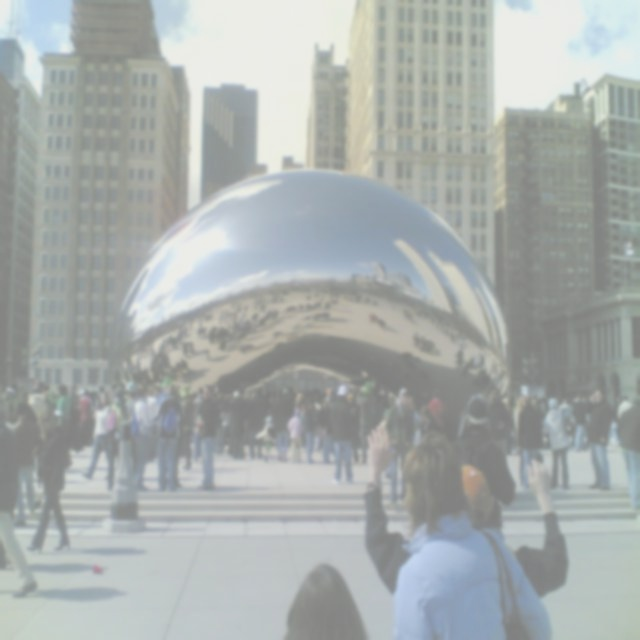pessoa: (112, 288, 512, 430), (361, 422, 574, 640), (382, 424, 566, 640), (450, 394, 518, 542), (0, 395, 40, 603), (282, 560, 372, 640), (26, 407, 72, 555), (0, 379, 57, 487), (383, 386, 416, 511), (12, 400, 42, 528), (152, 381, 184, 493), (582, 384, 614, 492), (614, 394, 640, 512), (132, 384, 160, 492), (106, 385, 132, 493), (516, 393, 544, 492), (195, 381, 219, 492), (330, 384, 356, 486), (82, 392, 111, 480), (26, 386, 52, 482), (77, 382, 114, 448), (354, 378, 378, 466), (552, 392, 576, 478), (244, 383, 266, 461), (272, 388, 294, 463), (229, 382, 249, 462), (178, 384, 196, 472), (54, 384, 72, 469), (488, 388, 510, 456), (568, 392, 591, 452), (172, 383, 185, 488), (343, 392, 361, 467), (513, 393, 527, 487), (2, 380, 24, 438), (315, 398, 333, 466), (255, 413, 279, 461), (402, 396, 424, 448), (216, 393, 234, 456), (302, 397, 318, 465), (193, 386, 207, 462), (427, 389, 449, 437), (78, 388, 95, 450), (287, 407, 305, 465), (532, 390, 550, 448), (572, 389, 588, 454), (121, 428, 142, 476), (418, 404, 442, 439), (211, 428, 237, 456), (502, 398, 514, 456), (66, 383, 82, 421), (608, 391, 618, 451), (618, 394, 634, 420), (612, 393, 624, 423), (379, 412, 389, 445), (294, 392, 306, 412), (145, 384, 155, 399)
